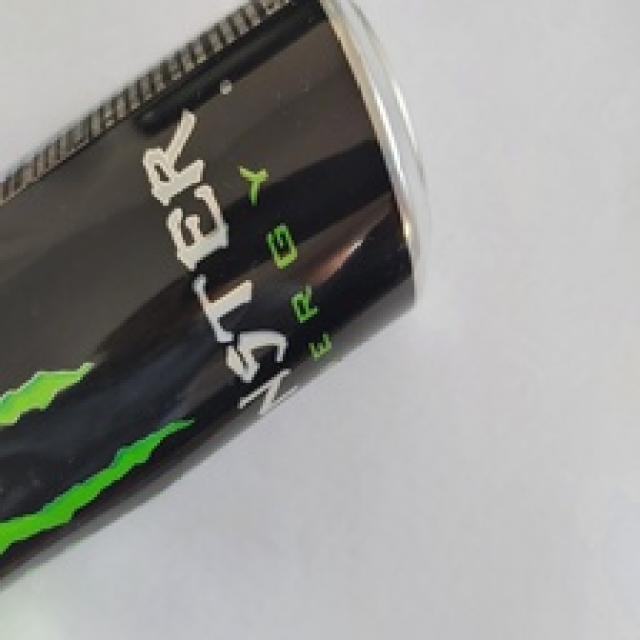recyclable: (0, 0, 426, 582)
